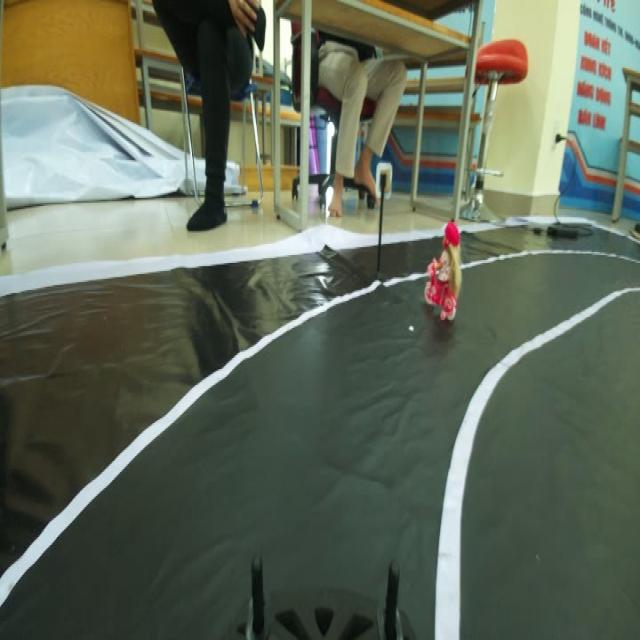pedestrian: (424, 222, 473, 329)
